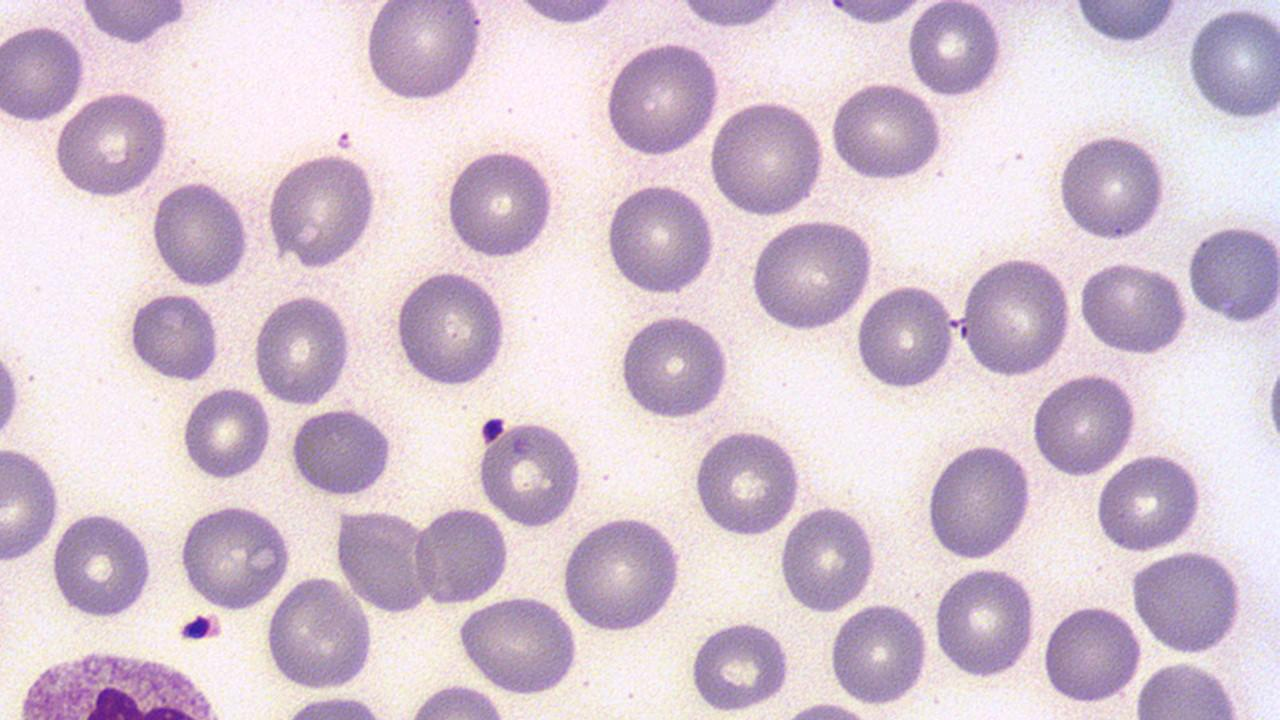Platelets: (120, 288, 224, 385), (176, 609, 223, 646), (480, 416, 508, 446)
RBC: (559, 510, 683, 636), (706, 96, 828, 219), (749, 216, 876, 333), (393, 266, 512, 390), (602, 37, 720, 160), (266, 146, 381, 272), (958, 254, 1074, 378), (442, 143, 560, 261), (601, 180, 718, 297), (51, 90, 176, 199), (924, 440, 1035, 562), (262, 574, 376, 692), (1054, 129, 1172, 243), (175, 501, 294, 612), (454, 592, 581, 696), (690, 424, 803, 540), (930, 563, 1040, 682), (473, 416, 588, 528), (616, 312, 733, 422), (363, 1, 486, 105), (1130, 546, 1246, 656), (827, 80, 946, 184), (1028, 370, 1140, 478), (251, 290, 355, 406), (852, 280, 956, 394), (50, 508, 155, 620), (826, 598, 932, 708), (778, 502, 881, 615), (148, 176, 250, 290), (1093, 452, 1205, 554), (1185, 3, 1279, 124), (1076, 258, 1190, 357), (333, 505, 435, 615), (1038, 601, 1144, 706), (688, 617, 796, 714), (1185, 219, 1279, 327), (286, 404, 396, 496), (412, 506, 512, 607), (905, 1, 1007, 100), (122, 288, 223, 384), (178, 383, 273, 483), (1, 19, 88, 127), (0, 443, 63, 566), (1131, 656, 1247, 716), (1067, 1, 1187, 50), (510, 0, 628, 29), (0, 329, 24, 451), (1264, 339, 1280, 466)
WBC: (696, 16, 1280, 720), (11, 643, 228, 716), (290, 402, 398, 497), (121, 289, 225, 385), (60, 2, 226, 45), (1066, 0, 1188, 47)
